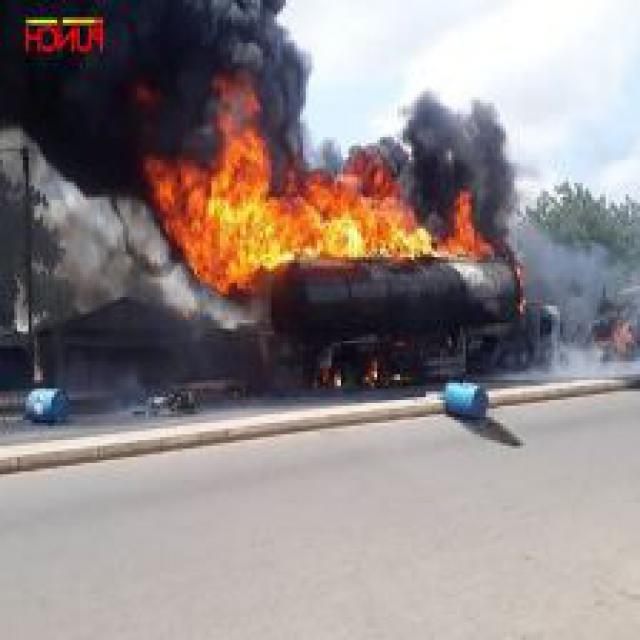fire: (132, 63, 512, 297)
